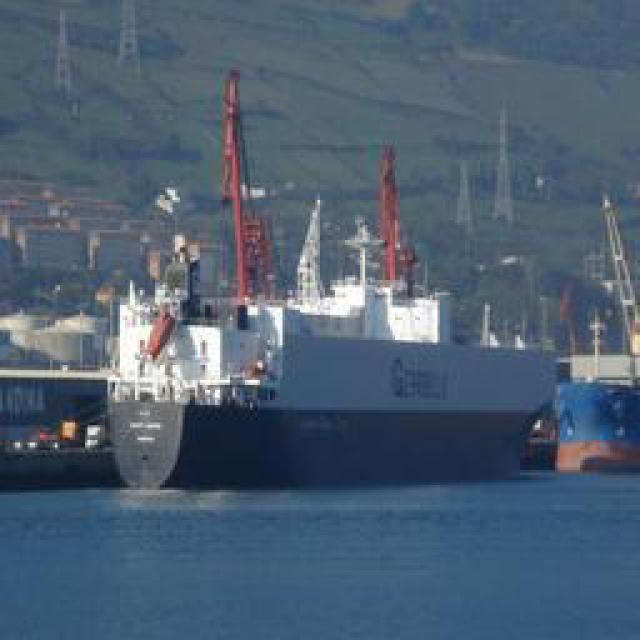Ship: (70, 49, 590, 484)
